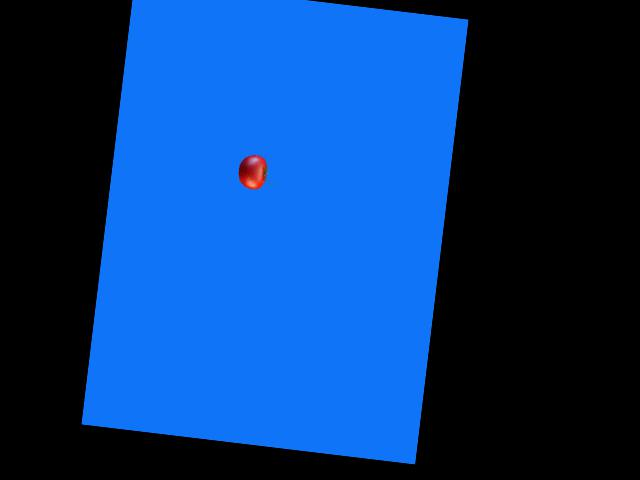tomato: (236, 152, 268, 190)
